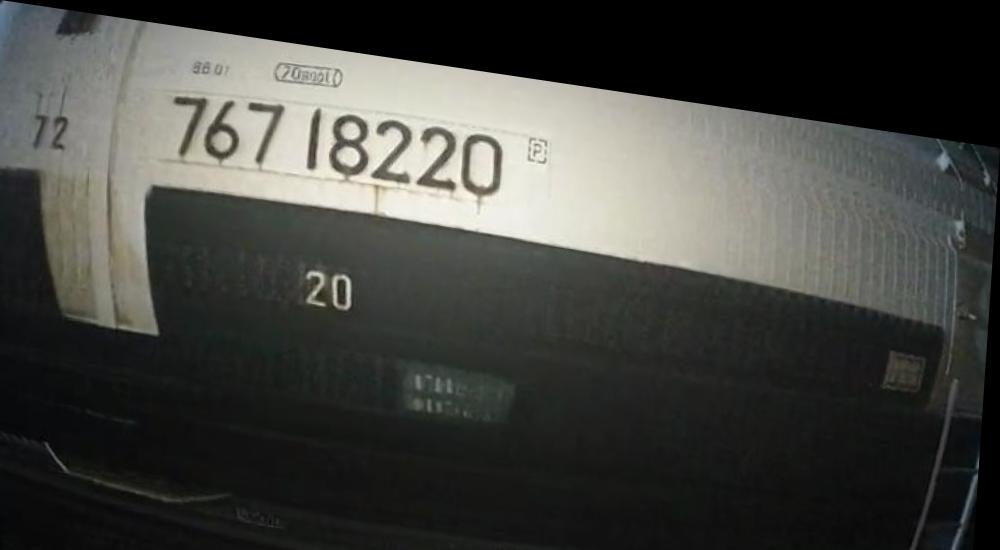Wagon-number: (164, 74, 513, 191)
